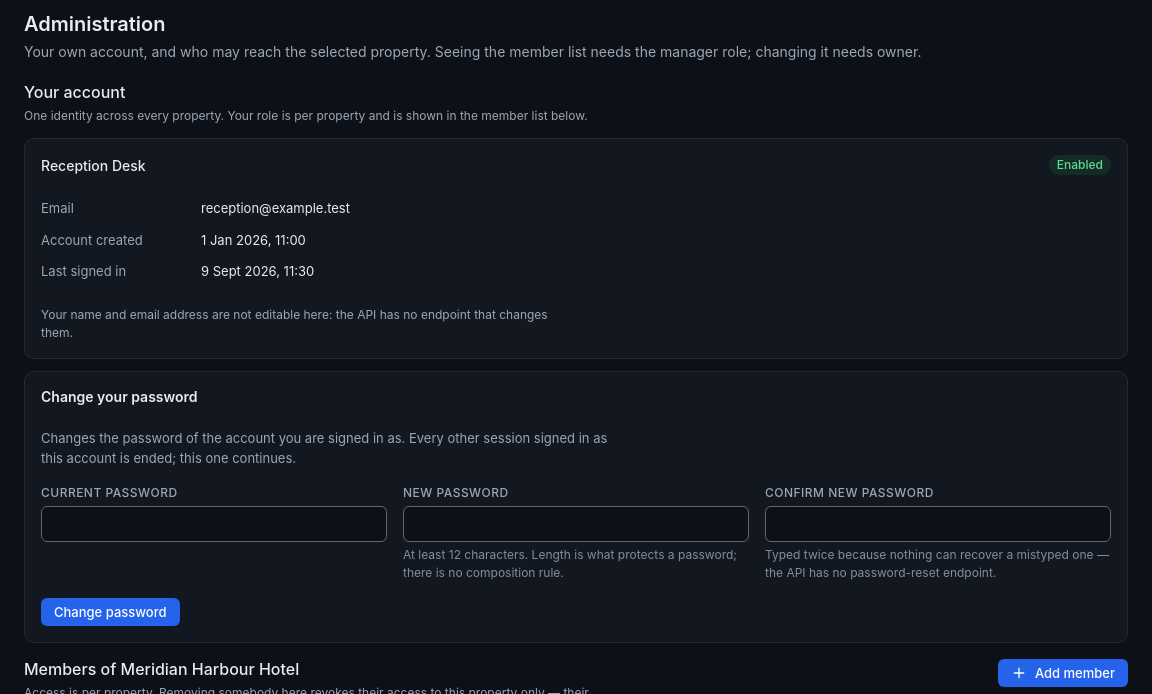
adding a member › explains a 409 as already a member
Click the button "Add member" at (1063, 673), box [998,659,1128,687]
(page scrolled)
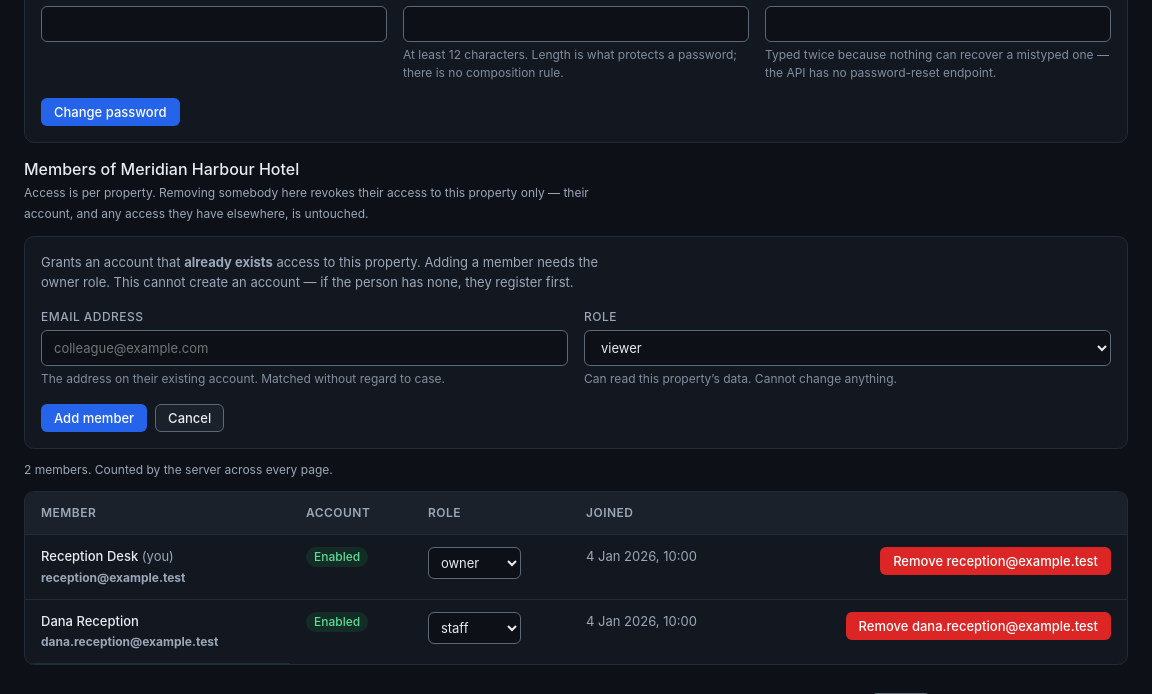
Type "dana.reception@example.test" into the field labelled "Email address" at (304, 348), box [41,330,568,366]
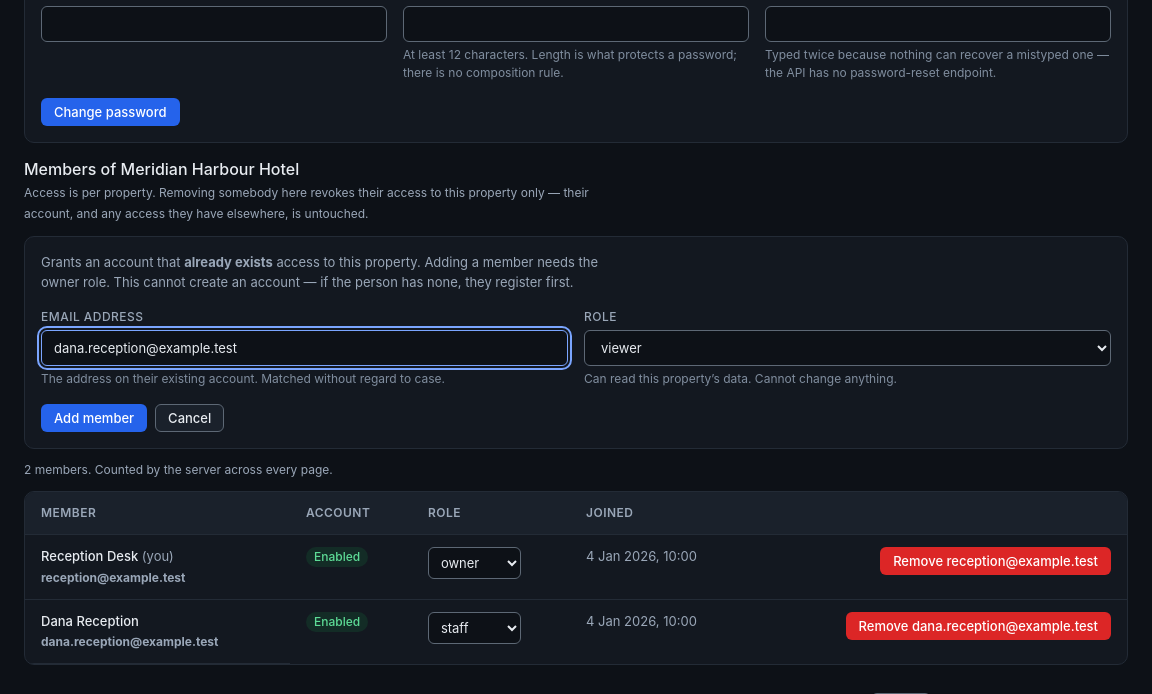
Click the button "Add member" at (94, 418), box [41,404,147,432]
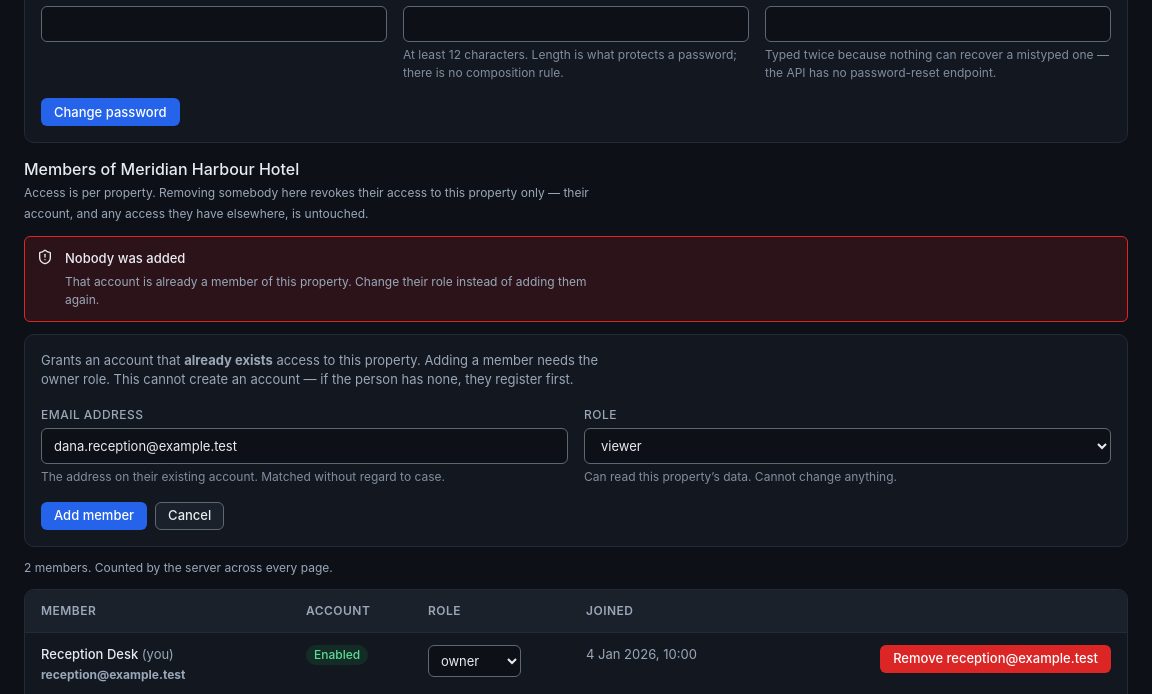
Expected: the text "Nobody was added" is shown, [65,250,185,266]
Expected: the text "already a member" is shown, [65,274,587,307]
